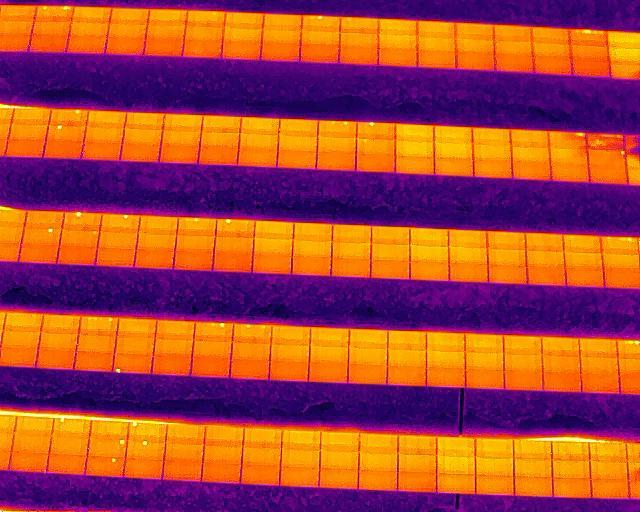Cell: (86, 455, 126, 476), (100, 212, 140, 233), (87, 437, 127, 458), (112, 352, 151, 373), (126, 439, 165, 460), (587, 147, 627, 166), (63, 211, 102, 230), (127, 421, 166, 440), (52, 419, 91, 438), (217, 218, 255, 237), (45, 124, 85, 142), (548, 130, 588, 148), (60, 228, 98, 246), (22, 228, 62, 245), (355, 138, 395, 155), (186, 9, 224, 26), (357, 122, 395, 139), (49, 110, 89, 125)
Cell-Multi: (177, 217, 217, 236), (233, 324, 272, 342), (587, 131, 626, 149), (568, 29, 607, 46), (80, 316, 119, 333), (300, 15, 339, 32), (599, 235, 640, 251), (35, 4, 73, 21), (317, 121, 357, 137), (195, 323, 234, 339)
No-Anomaly: (252, 220, 295, 241), (115, 334, 155, 355), (513, 477, 553, 498), (253, 236, 295, 256), (347, 363, 387, 384), (74, 349, 112, 371), (212, 253, 253, 273), (151, 354, 192, 374), (591, 479, 630, 500), (58, 245, 97, 266), (77, 332, 116, 353), (426, 330, 465, 351), (310, 326, 349, 347), (513, 457, 552, 478), (47, 453, 86, 474), (162, 111, 202, 131), (503, 334, 543, 354), (464, 332, 504, 352), (97, 229, 137, 249), (397, 471, 437, 491), (280, 467, 320, 487), (588, 442, 628, 462), (136, 250, 175, 270), (436, 454, 475, 474), (552, 478, 591, 498), (474, 476, 513, 496), (41, 314, 80, 334), (397, 434, 436, 454), (436, 474, 475, 494), (51, 435, 90, 455), (358, 470, 397, 490), (319, 468, 358, 488), (165, 442, 204, 462), (165, 424, 204, 444), (580, 372, 619, 392), (465, 369, 504, 389), (309, 362, 348, 382), (138, 216, 179, 235), (241, 445, 282, 464), (487, 265, 527, 284), (174, 251, 214, 270), (201, 463, 241, 482), (347, 345, 387, 364), (125, 459, 163, 479), (35, 349, 75, 368), (602, 268, 640, 288), (409, 261, 449, 280), (387, 347, 427, 366), (561, 234, 601, 253), (485, 230, 525, 249), (409, 228, 449, 247), (10, 451, 48, 471), (473, 439, 513, 458), (203, 426, 243, 445), (425, 367, 465, 386), (386, 365, 426, 384), (269, 361, 309, 380), (190, 356, 230, 375), (232, 341, 271, 360), (163, 461, 202, 480), (20, 244, 59, 263), (589, 461, 628, 480), (426, 349, 465, 368), (474, 457, 513, 476), (551, 459, 590, 478), (155, 336, 194, 355), (224, 10, 263, 29), (565, 268, 604, 287), (331, 258, 370, 277), (487, 247, 526, 266), (448, 229, 487, 248), (371, 226, 410, 245), (82, 141, 121, 160), (436, 437, 475, 456), (241, 465, 280, 484), (395, 123, 434, 142), (513, 439, 552, 458), (90, 419, 129, 438), (230, 358, 269, 377), (214, 236, 255, 254), (160, 127, 201, 145), (4, 312, 42, 331), (525, 233, 563, 252), (199, 146, 237, 165), (281, 448, 319, 467), (15, 416, 53, 435), (38, 332, 78, 350), (409, 244, 449, 262), (96, 248, 136, 266), (239, 117, 279, 135), (387, 329, 427, 347), (292, 238, 332, 256), (270, 343, 310, 361), (270, 325, 310, 343), (291, 256, 331, 274), (192, 339, 232, 357), (503, 353, 543, 371), (125, 110, 165, 128), (309, 344, 349, 362), (578, 355, 618, 373), (136, 234, 176, 252), (394, 155, 434, 173), (237, 148, 277, 166), (120, 142, 160, 160), (316, 136, 356, 154), (471, 127, 511, 145), (202, 445, 242, 463), (242, 427, 282, 445), (541, 371, 581, 389), (503, 371, 543, 389), (542, 336, 579, 355), (0, 348, 37, 367), (349, 328, 388, 346), (526, 249, 565, 267), (371, 260, 410, 278), (397, 454, 436, 472), (449, 262, 488, 280), (465, 352, 504, 370), (579, 338, 618, 356), (201, 115, 240, 133), (278, 118, 317, 136), (527, 267, 566, 285), (117, 317, 156, 335), (155, 319, 194, 337), (542, 354, 581, 372), (492, 24, 531, 42), (494, 54, 533, 72), (332, 224, 371, 242), (395, 139, 434, 157), (512, 160, 551, 178), (6, 140, 45, 158), (510, 128, 549, 146), (319, 450, 358, 468), (358, 452, 397, 470), (550, 442, 589, 460), (281, 430, 320, 448), (358, 434, 397, 452), (377, 49, 418, 66), (433, 157, 474, 174), (432, 125, 473, 142), (1, 331, 39, 349), (87, 109, 125, 127), (13, 435, 51, 453), (295, 223, 333, 241), (161, 143, 199, 161), (45, 141, 83, 159), (320, 433, 358, 451), (222, 26, 262, 43), (448, 246, 488, 263), (600, 252, 640, 269), (562, 251, 602, 268), (355, 154, 395, 171), (433, 141, 473, 158), (511, 144, 551, 161), (548, 145, 588, 162), (277, 134, 317, 151), (72, 6, 112, 23), (371, 243, 410, 260), (455, 52, 494, 69), (332, 241, 371, 258), (184, 24, 223, 41), (550, 161, 589, 178), (278, 150, 317, 167), (85, 125, 124, 142), (376, 19, 417, 35), (472, 158, 513, 174), (238, 132, 279, 148), (9, 123, 47, 140), (145, 39, 183, 56), (263, 13, 301, 30), (261, 44, 301, 60), (182, 41, 222, 57), (377, 33, 417, 49), (454, 37, 494, 53), (252, 255, 292, 271), (588, 166, 628, 182), (316, 153, 356, 169), (31, 21, 70, 37), (106, 37, 145, 53), (416, 21, 455, 37), (11, 109, 50, 125), (455, 22, 494, 38), (222, 43, 261, 59), (338, 47, 377, 63), (70, 22, 109, 38), (493, 39, 532, 55), (26, 212, 65, 228), (200, 131, 239, 147), (122, 127, 161, 143), (532, 42, 570, 58), (30, 36, 68, 52), (533, 58, 571, 74), (339, 17, 377, 33), (530, 26, 568, 42), (176, 235, 214, 251), (107, 22, 147, 37), (473, 144, 513, 159), (569, 61, 608, 76), (569, 46, 608, 61), (300, 45, 339, 60), (262, 29, 301, 44), (148, 9, 187, 24), (417, 51, 455, 66), (146, 23, 184, 38), (300, 31, 340, 45), (109, 9, 148, 23), (340, 32, 379, 46), (68, 38, 107, 52), (417, 36, 455, 50)
